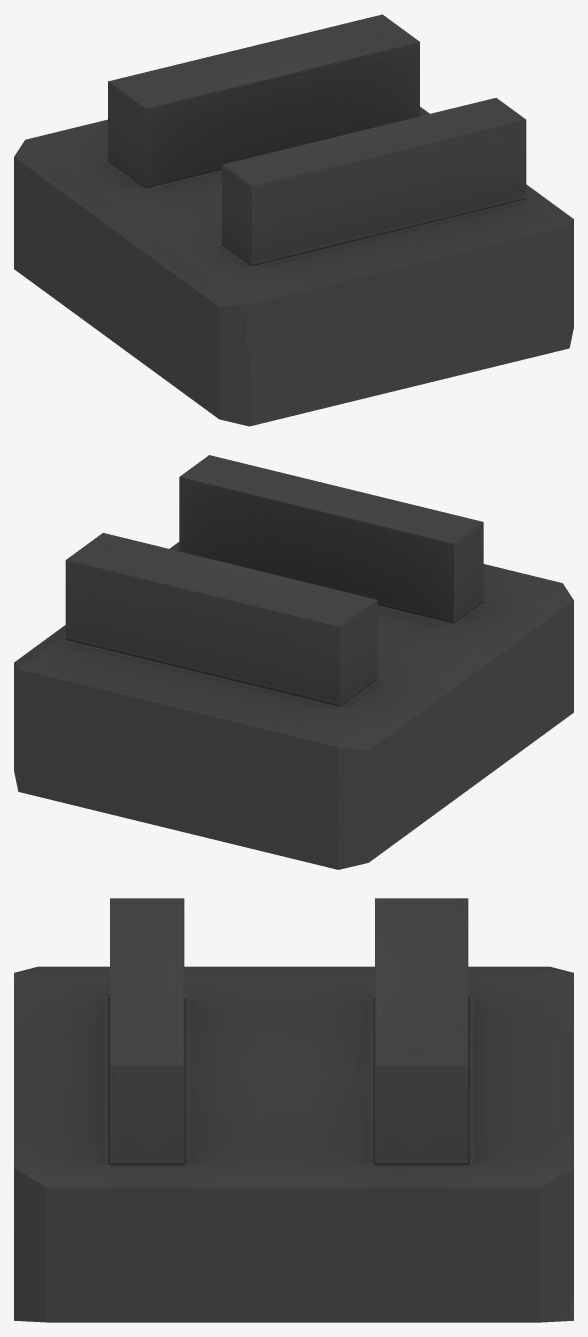
Rendered from Lali_project.glb.
The picture shows the model from 3 angles, top to bottom: view 1: azimuth 30°, elevation 25°; view 2: azimuth 150°, elevation 25°; view 3: azimuth 270°, elevation 25°; orthographic projection. The views are drawn at different scales.
Visible parts, largest first — view 1: artifle; view 2: artifle; view 3: artifle.
Part boxes in pixels (x1,y1,x2,y2): artifle: (14, 14, 573, 426); artifle: (14, 455, 573, 869); artifle: (14, 898, 573, 1322).
Size of the model in its own units: 6.13 by 3.3 by 6.65.
1 material, 1 textured.
